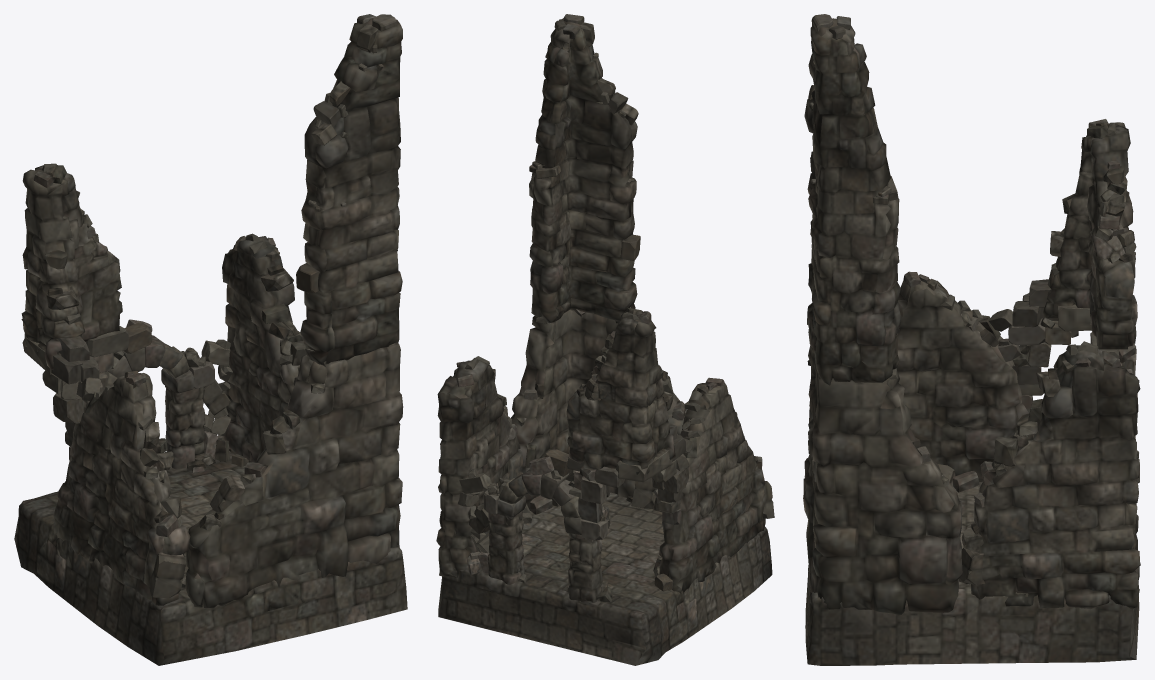
Rendered from Old_Tower_01.fbx.
The picture shows the model from 3 angles, left to right: view 1: azimuth 30°, elevation 25°; view 2: azimuth 150°, elevation 25°; view 3: azimuth 270°, elevation 25°; orthographic projection. The views are drawn at different scales.
Visible parts, largest first — view 1: Old_Tower_01, Old_Tower_01_Bricks; view 2: Old_Tower_01, Old_Tower_01_Bricks; view 3: Old_Tower_01, Old_Tower_01_Bricks.
Part boxes in pixels (box(x1,y1,x2,y2)): Old_Tower_01: box(14, 18, 407, 665); Old_Tower_01_Bricks: box(22, 14, 396, 598); Old_Tower_01: box(436, 18, 772, 665); Old_Tower_01_Bricks: box(456, 14, 774, 602); Old_Tower_01: box(803, 18, 1140, 665); Old_Tower_01_Bricks: box(807, 14, 1139, 584).
Size of what is drawn, in the model's own units: 772 by 1691 by 813.
